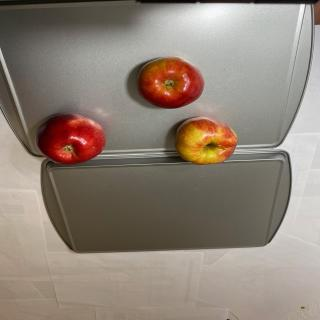Apple: (34, 112, 106, 164), (136, 56, 204, 109), (174, 116, 238, 165)
